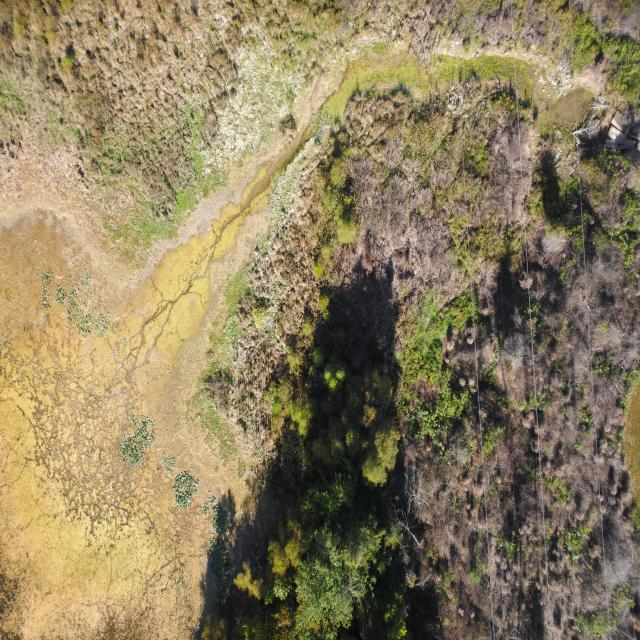Area of Interest: (220, 364, 396, 624)
